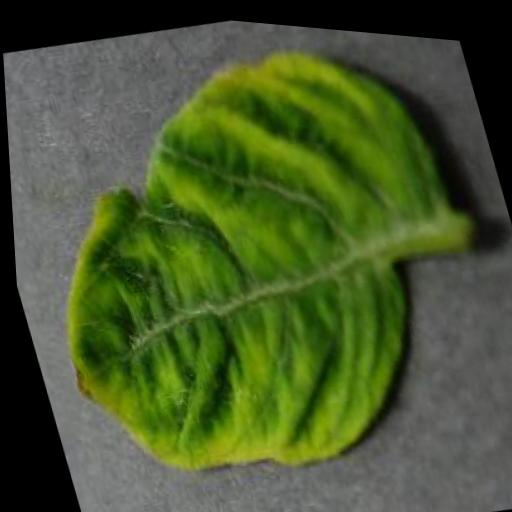Yellow Leaf Curl Virus: (0, 0, 509, 512)
